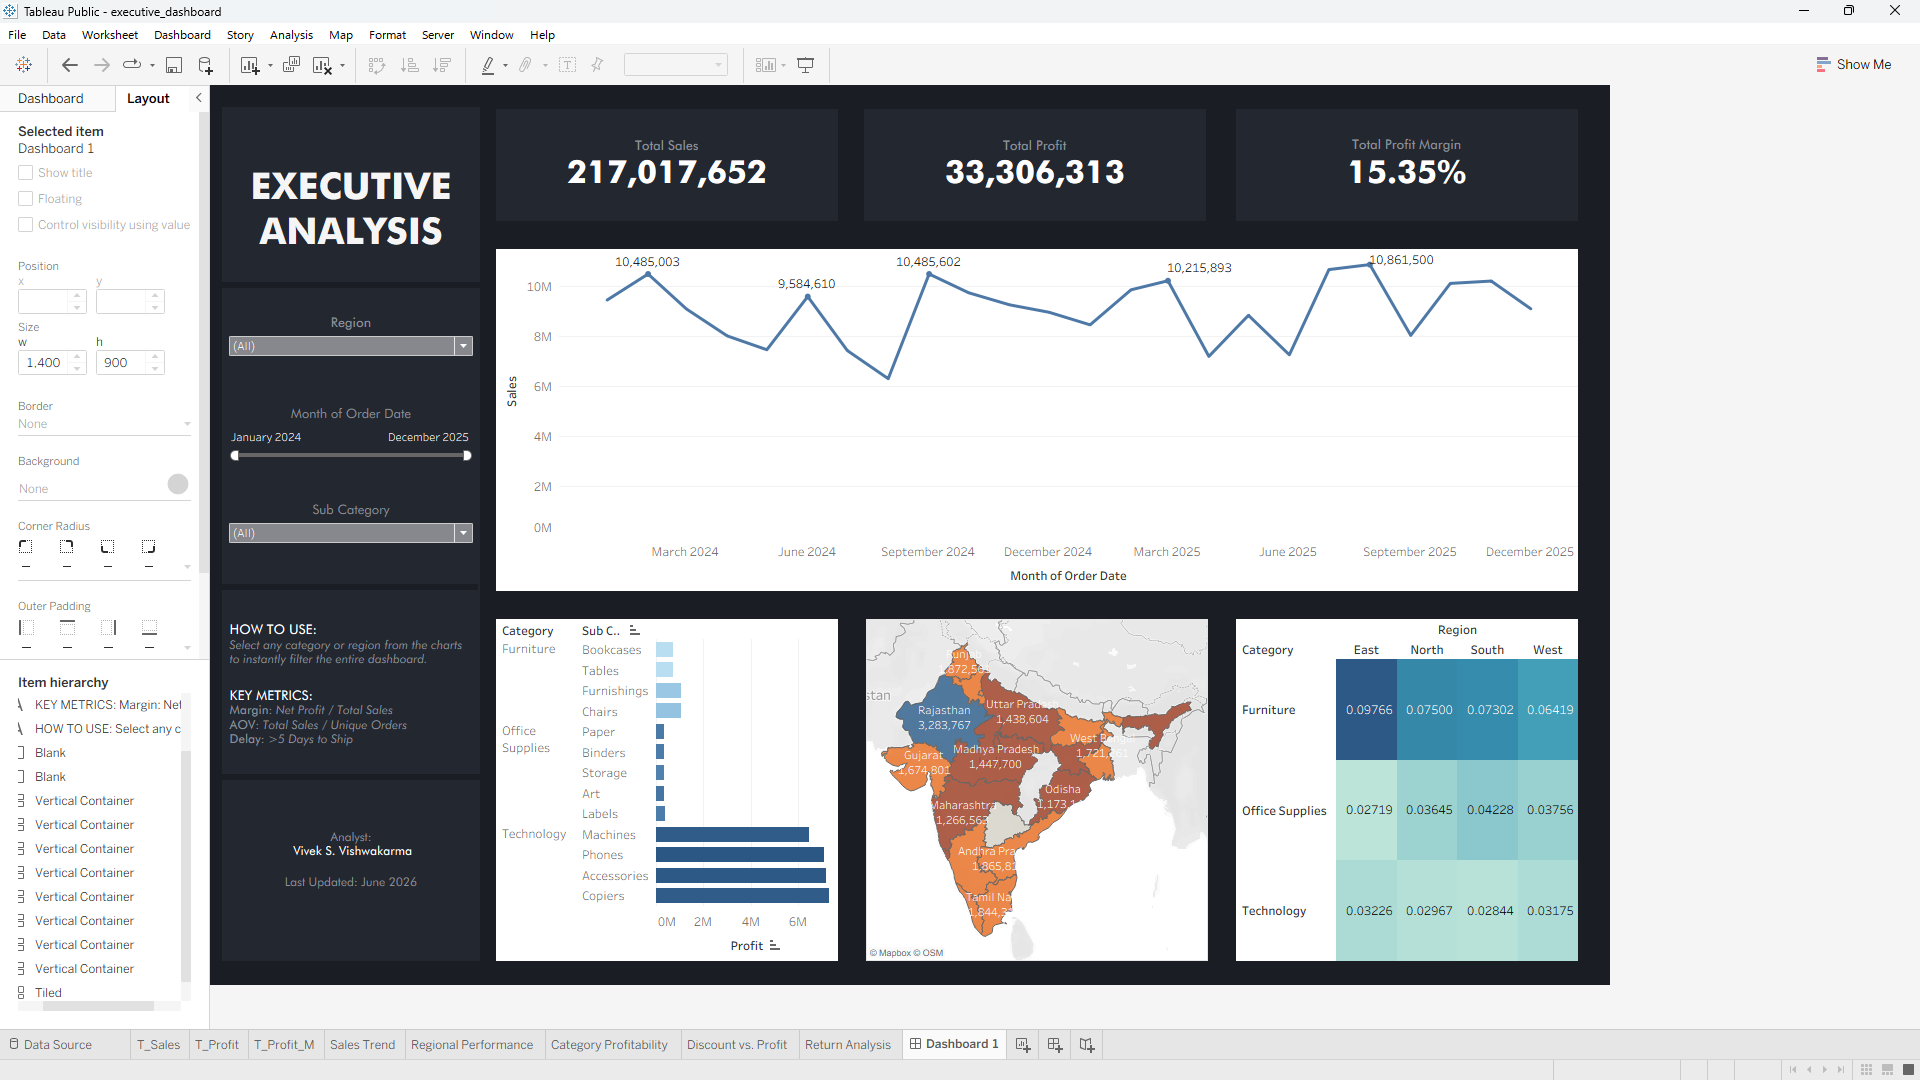

What the dashboard file says about the page in this screenshot:
{"tool":"tableau","page":{"name":"Dashboard 1","canvas":[1400,900],"ordinal":0},"visuals":[{"type":"worksheet","title":"T_Sales","mark":"Automatic","box":[282,20,350,120]},{"type":"worksheet","title":"T_Profit","mark":"Automatic","box":[650,20,350,120]},{"type":"worksheet","title":"T_Profit_M","mark":"Automatic","box":[1022,20,350,120]},{"type":"text","box":[12,22,258,203]},{"type":"worksheet","title":"Sales Trend","mark":"Automatic","rows":["sales"],"cols":["order_date"],"box":[282,160,1090,350]},{"type":"blank","box":[12,197,258,6]},{"type":"filter","title":"Return Analysis","param":"[federated.0wexzy50cv2zmn1h14a810nxdeul].[none:region:nk]","box":[12,225,258,91]},{"type":"filter","title":"Sales Trend","param":"[federated.0wexzy50cv2zmn1h14a810nxdeul].[tmn:order_date:qk]","box":[12,316,258,96]},{"type":"filter","title":"Category Profitability","param":"[federated.0wexzy50cv2zmn1h14a810nxdeul].[none:sub_category:nk]","box":[12,412,258,87]},{"type":"blank","box":[7,499,261,6]},{"type":"text","box":[17,526,243,67]},{"type":"worksheet","title":"Category Profitability","mark":"Automatic","rows":["category","sub_category"],"cols":["profit"],"box":[282,530,350,349.9]},{"type":"worksheet","title":"Regional Performance","mark":"Multipolygon","box":[652,530,350,350]},{"type":"worksheet","title":"Return Analysis","mark":"Square","rows":["category"],"cols":["region"],"box":[1022,530,350,350]},{"type":"text","box":[17,602,183,61]},{"type":"blank","box":[7,689,268,6]},{"type":"text","box":[72,739,138,73]}]}

Visuals, with their boxes on the page's 1400x900 design canvas (x1, y1, x2, y2). These are canvas units, not pixel positions in the 1920x1080 screenshot, which may show the page scaled, cropped or inside an application window:
"T_Sales" worksheet: 282,20,632,140
"T_Profit" worksheet: 650,20,1000,140
"T_Profit_M" worksheet: 1022,20,1372,140
text: 12,22,270,225
"Sales Trend" worksheet: 282,160,1372,510
blank: 12,197,270,203
"Return Analysis" filter: 12,225,270,316
"Sales Trend" filter: 12,316,270,412
"Category Profitability" filter: 12,412,270,499
blank: 7,499,268,505
text: 17,526,260,593
"Category Profitability" worksheet: 282,530,632,880
"Regional Performance" worksheet (Multipolygon marks): 652,530,1002,880
"Return Analysis" worksheet (Square marks): 1022,530,1372,880
text: 17,602,200,663
blank: 7,689,275,695
text: 72,739,210,812
